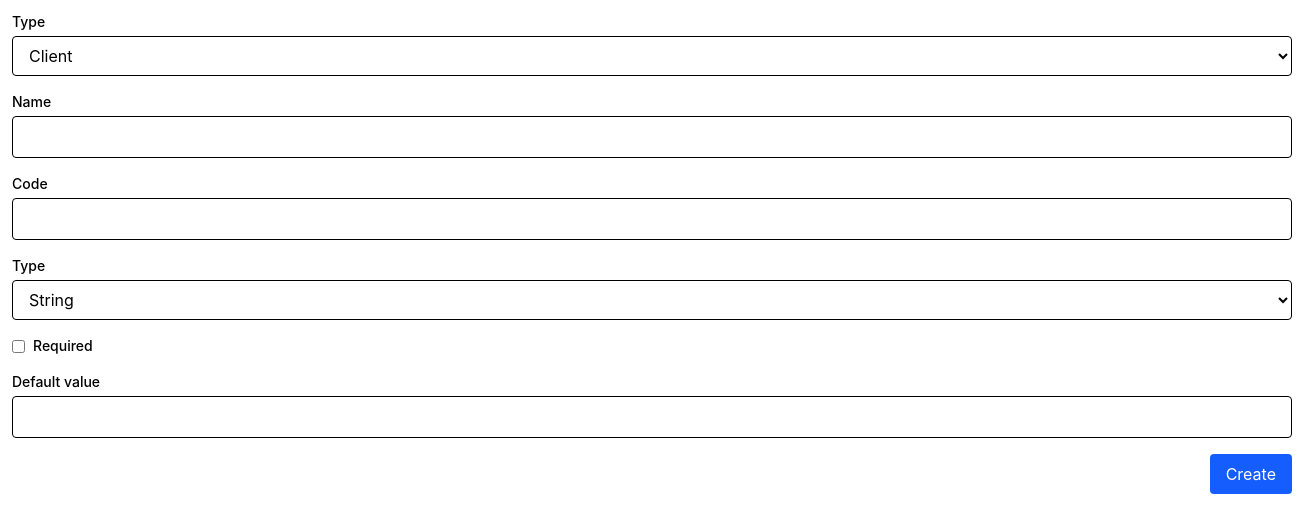
Test: EavAttributeForm › auto-generates code from single-word Cyrillic names
The image size is (1304, 511).
Type "Бренд" into the field labelled "Name" at {"x": 652, "y": 137}, box left=12, top=116, right=1292, bottom=158
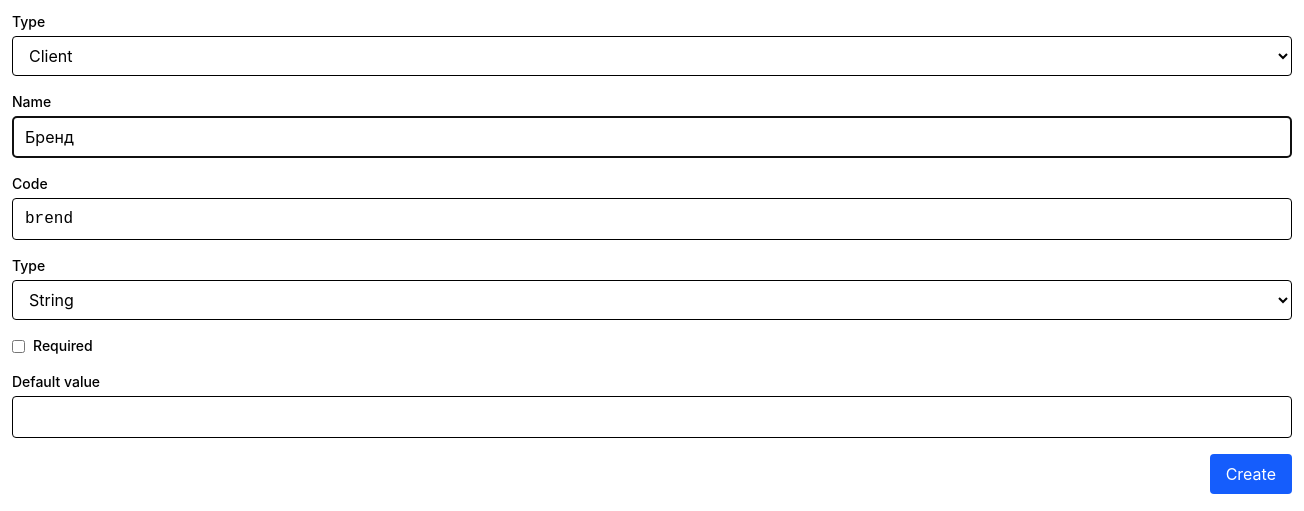
expect the field labelled "Code" holds "brend": met, box left=12, top=198, right=1292, bottom=240
